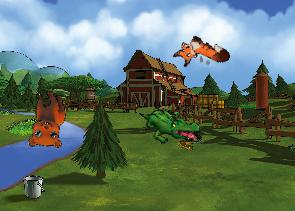bear: (21, 88, 69, 151)
crocodile: (139, 106, 201, 146)
fox: (170, 28, 232, 82)
